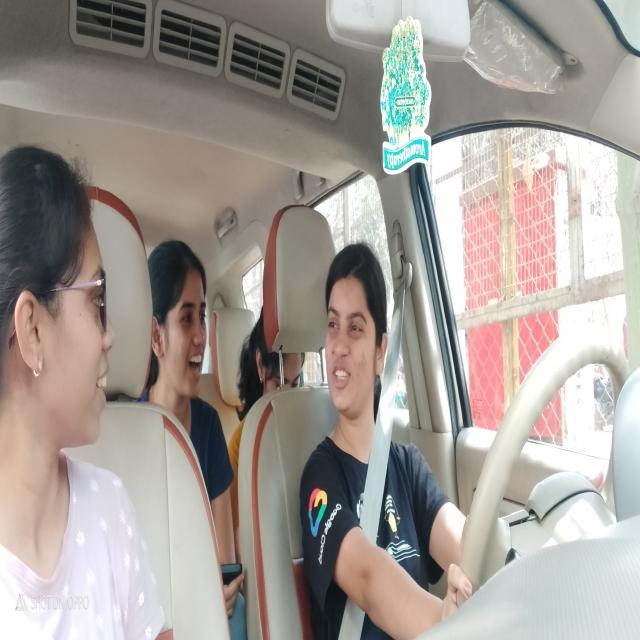LeftRight: (17, 160, 119, 447), (317, 265, 384, 423)
person: (158, 259, 209, 396), (250, 332, 310, 392)
talking: (328, 365, 354, 394), (94, 371, 116, 405)
